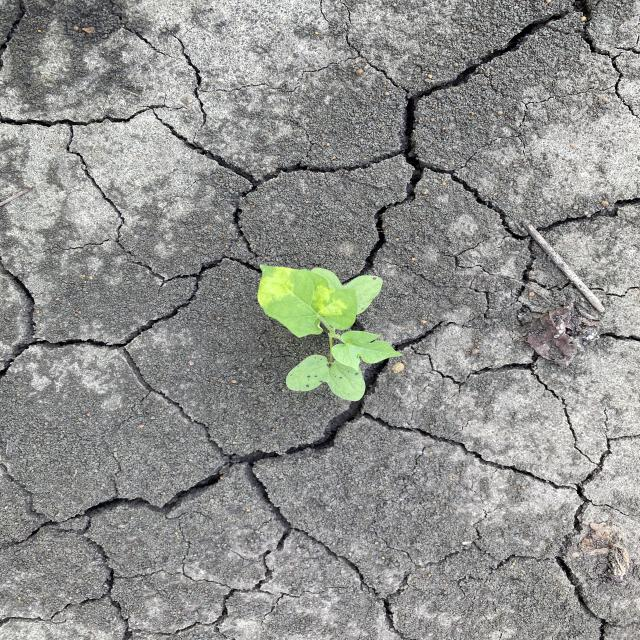MorningGlory: (256, 262, 407, 402)
